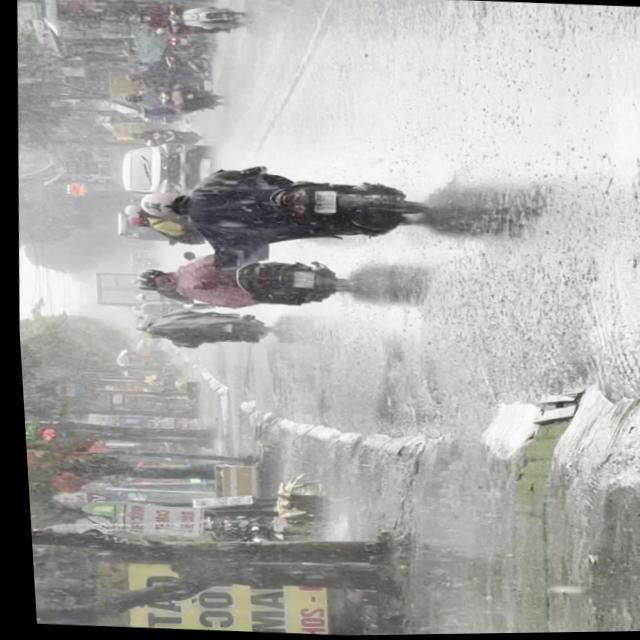helmet: (132, 189, 183, 219), (129, 268, 168, 290)
licenseplate: (120, 160, 432, 257), (124, 247, 352, 316)
nohelmet: (309, 191, 333, 215), (289, 272, 311, 290)
